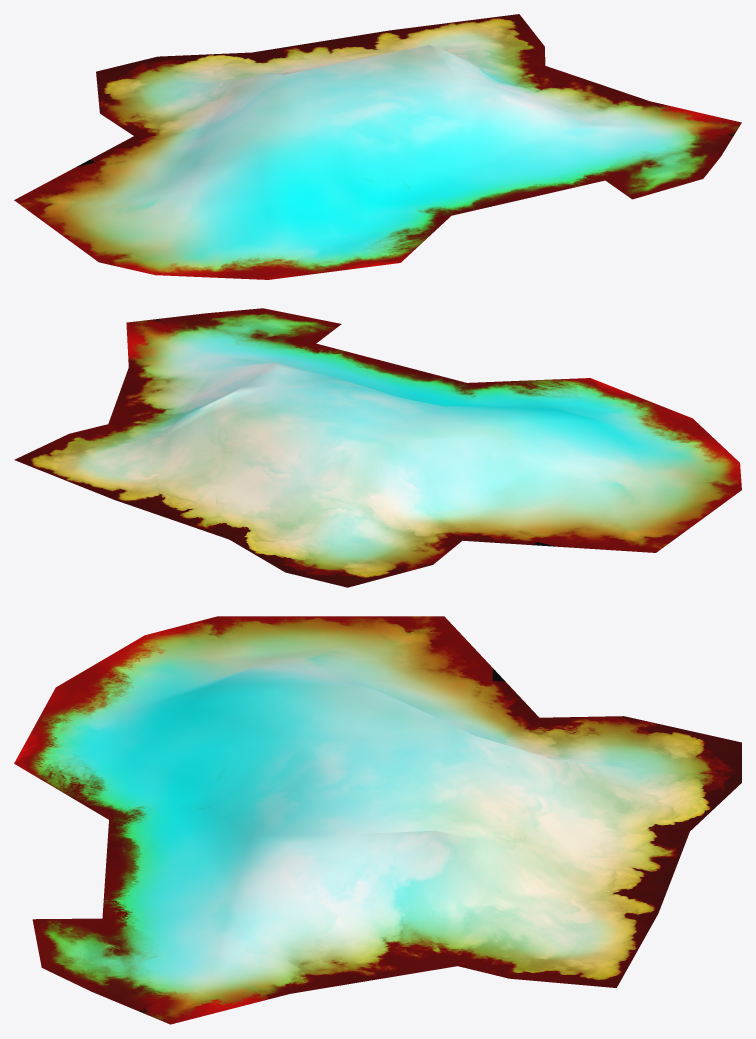
The model's file is Mesh_QuantumMetaCloud_9.FBX.
The picture shows the model from 3 angles, top to bottom: view 1: azimuth 30°, elevation 25°; view 2: azimuth 150°, elevation 25°; view 3: azimuth 270°, elevation 25°; orthographic projection. The views are drawn at different scales.
Visible parts, largest first — view 1: Mesh_QuantumMetaCloud_9; view 2: Mesh_QuantumMetaCloud_9; view 3: Mesh_QuantumMetaCloud_9.
Boxes of the visible parts, left/top/right/bottom form: Mesh_QuantumMetaCloud_9: left=14, top=14, right=741, bottom=279; Mesh_QuantumMetaCloud_9: left=14, top=308, right=741, bottom=587; Mesh_QuantumMetaCloud_9: left=14, top=616, right=741, bottom=1024.
Bounding box in the file's own units: 945 × 712 × 69.44.
